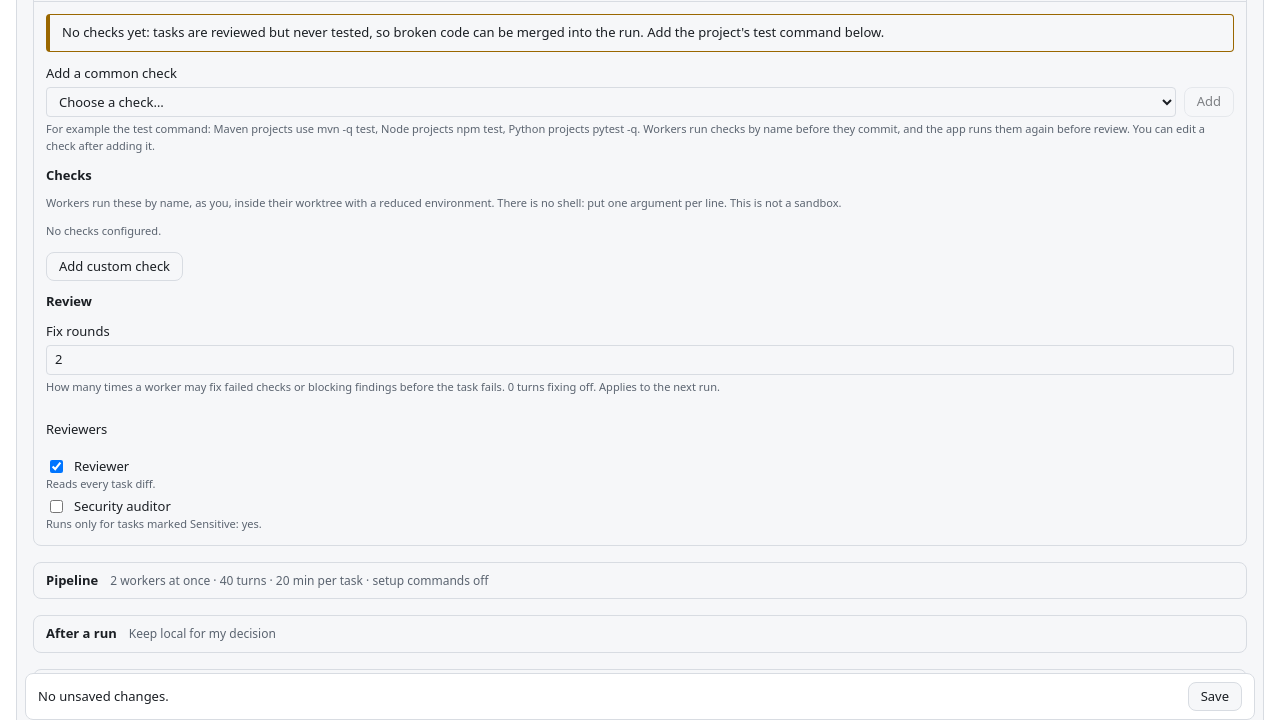
it: review settings › sends rounds and reviewers with every other setting unchanged
This screenshot has width=1280, height=720.
(page scrolled)
Replace the text in the field labelled "Fix rounds" with "3". click: (640, 360)
box: [46,345,1234,375]
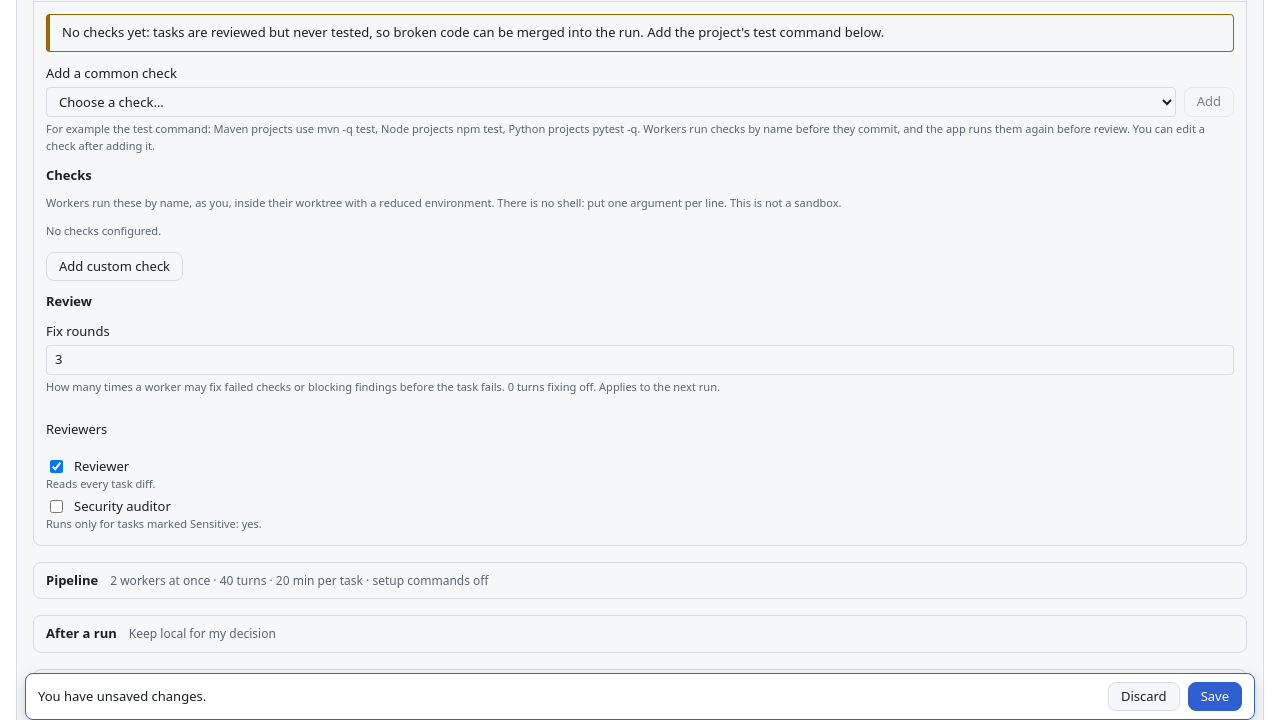
Click the checkbox labelled "Security auditor". click: (56, 507)
box: [50,500,63,513]
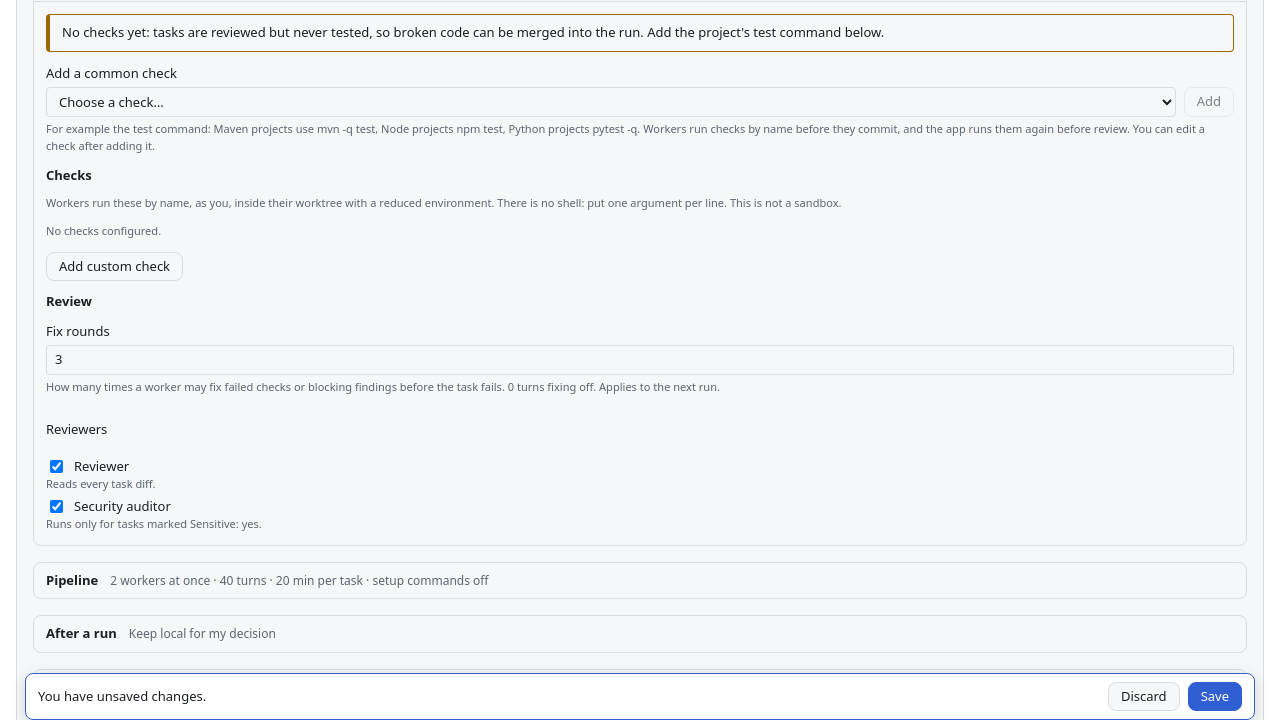
Click the button "Save". click: (1215, 696)
box: [1188,682,1242,711]
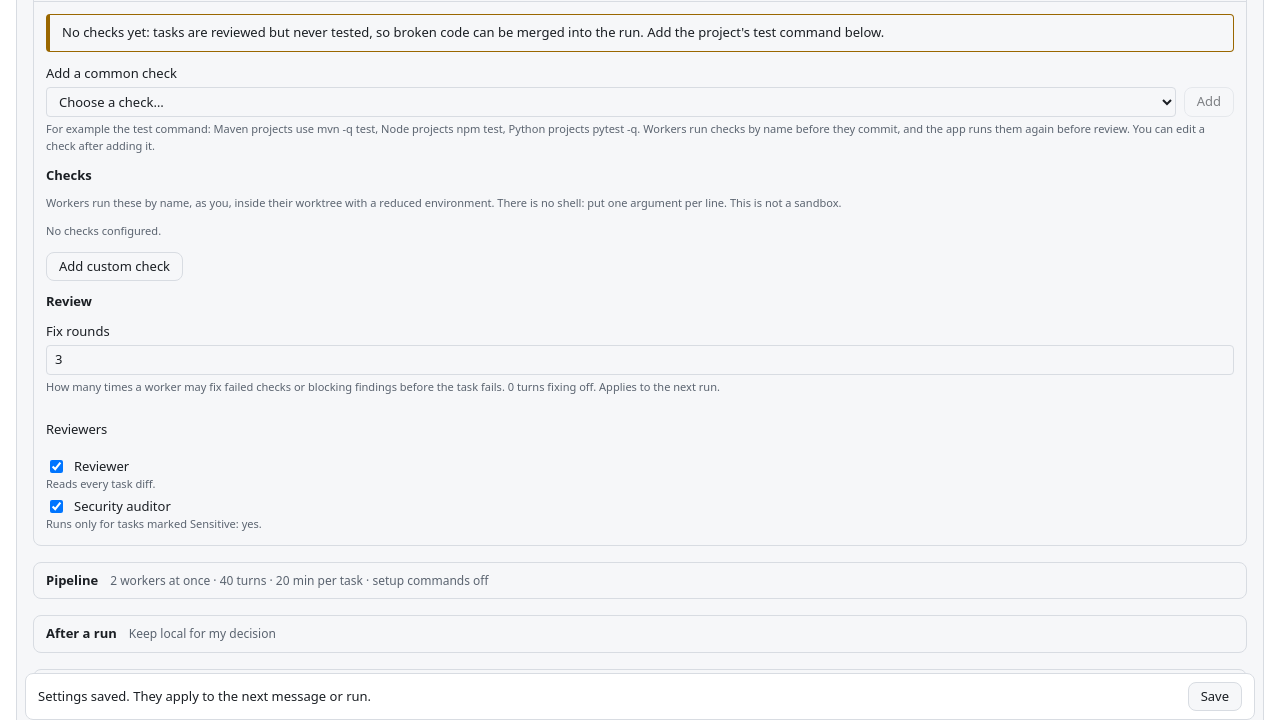
Now the text "Settings saved. They apply to the next message or run." is shown, box [38,686,371,704]
